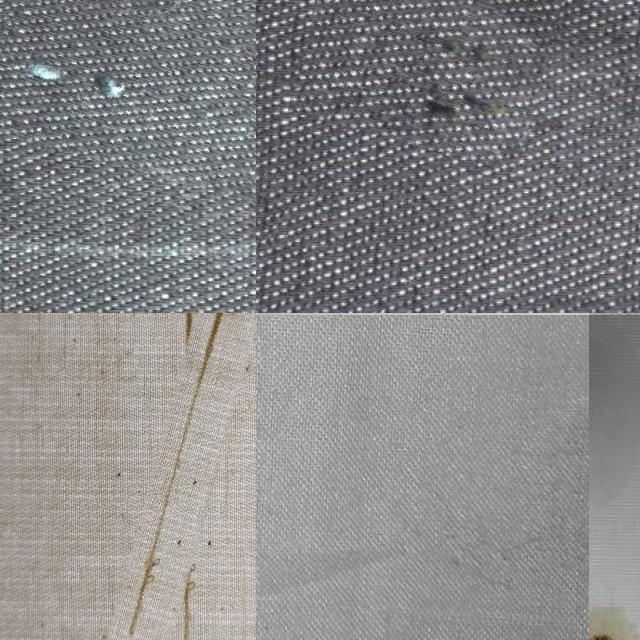Thread_other: (300, 0, 566, 159), (128, 313, 256, 640)
